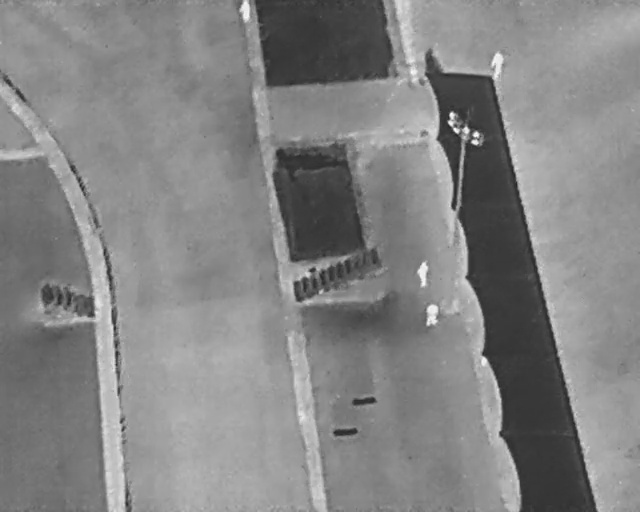Person: (489, 48, 506, 82), (415, 257, 430, 288), (236, 0, 252, 25), (425, 301, 440, 327)
